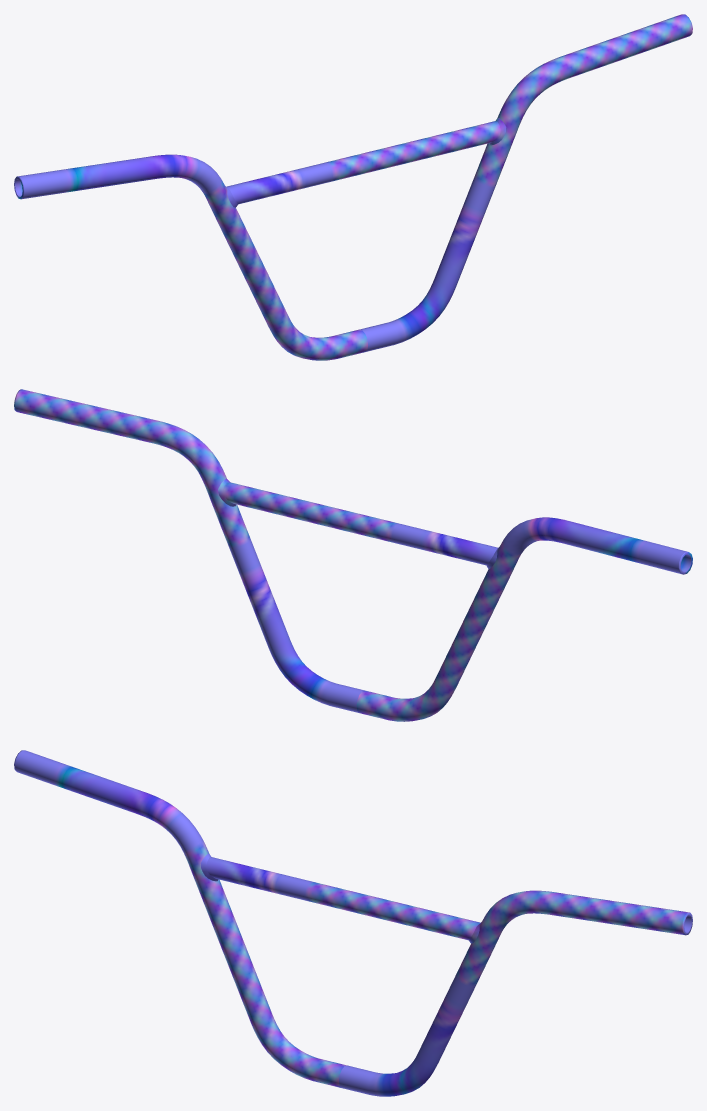
Rendered from BMX_Bars_Punch_Big Jump.fbx.
The picture shows the model from 3 angles, top to bottom: view 1: azimuth 30°, elevation 25°; view 2: azimuth 150°, elevation 25°; view 3: azimuth 330°, elevation 25°; orthographic projection.
Visible parts, largest first — view 1: BMX_Bars_Punch_BigJump; view 2: BMX_Bars_Punch_BigJump; view 3: BMX_Bars_Punch_BigJump.
Part boxes in pixels (x1=…): BMX_Bars_Punch_BigJump: x1=14, y1=14, x2=692, y2=360; BMX_Bars_Punch_BigJump: x1=14, y1=389, x2=692, y2=721; BMX_Bars_Punch_BigJump: x1=14, y1=750, x2=692, y2=1096.
Size of the model in its own units: 73.4 by 26.01 by 4.08.
Materials: 1 (1 with a texture image).
